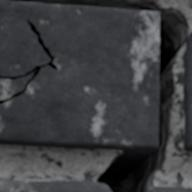brick: (0, 0, 158, 149), (184, 33, 191, 150)
broken_brick: (0, 179, 109, 191), (152, 186, 191, 191)
crack: (2, 0, 189, 191)
